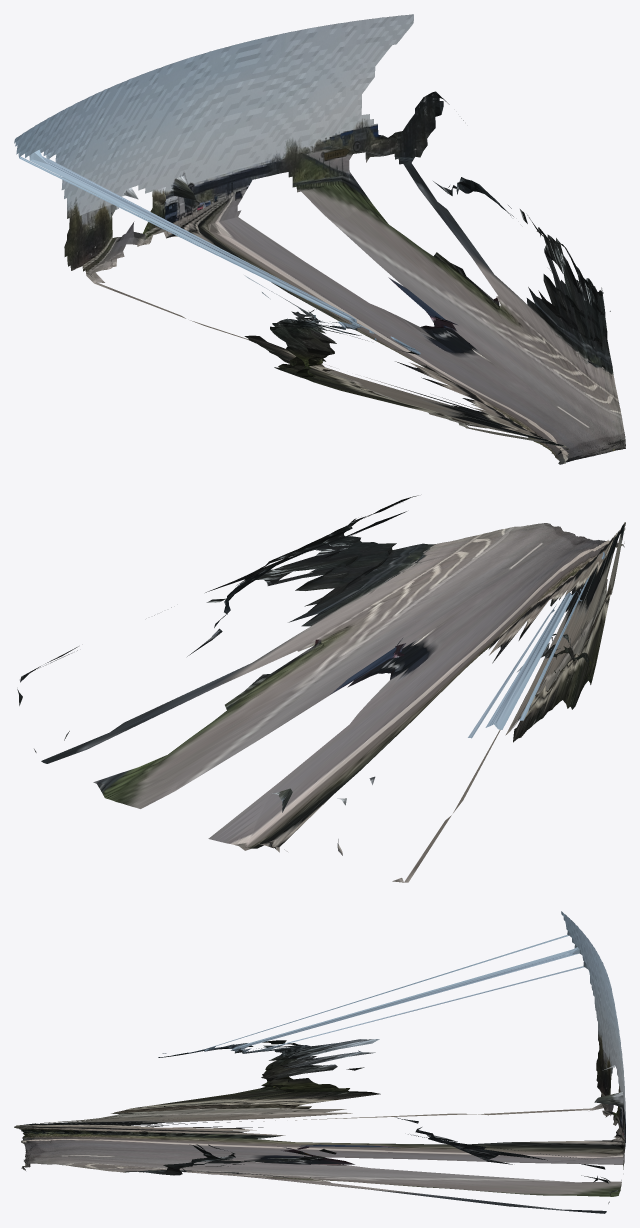
The picture shows the model from 3 angles, top to bottom: view 1: azimuth 30°, elevation 25°; view 2: azimuth 150°, elevation 25°; view 3: azimuth 270°, elevation 25°; orthographic projection. The views are drawn at different scales.
Parts seen in each view (by area): view 1: defaultobject; view 2: defaultobject; view 3: defaultobject.
Boxes of the visible parts, x1,y1,x2,y2 form: defaultobject: [14, 14, 625, 464]; defaultobject: [17, 495, 625, 882]; defaultobject: [14, 911, 625, 1213].
Size of the model in its own units: 32.94 by 13.42 by 44.95.
Materials: 1 (1 with a texture image).
